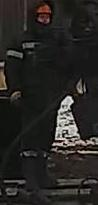gloves: (10, 89, 25, 109)
helmet: (36, 3, 52, 13)
vest: (14, 27, 69, 115)
